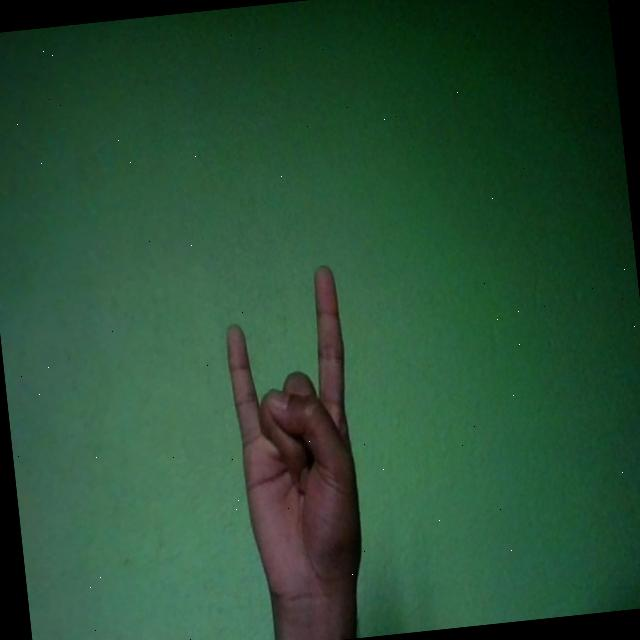open Plam: (216, 262, 372, 618)
